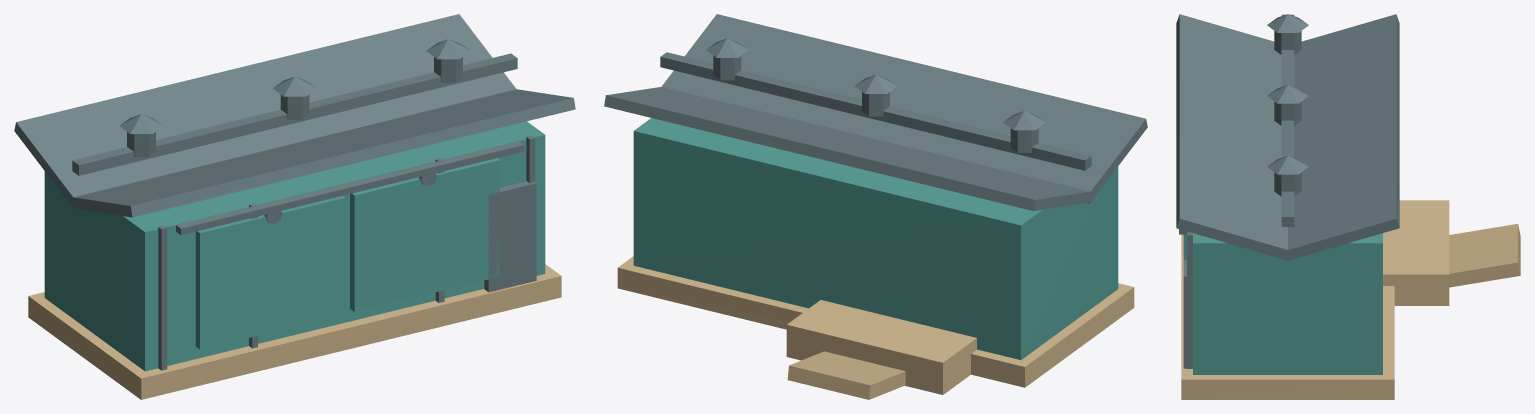
File: Warehouse.glb
The picture shows the model from 3 angles, left to right: view 1: azimuth 30°, elevation 25°; view 2: azimuth 150°, elevation 25°; view 3: azimuth 270°, elevation 25°; orthographic projection. The views are drawn at different scales.
Parts seen in each view (by area): view 1: wind-pump-static-warehouse-timber-panel, wind-pump-static-warehouse-galvanized-roof, wind-pump-static-warehouse-dark-iron, wind-pump-static-warehouse-stone-foundation; view 2: wind-pump-static-warehouse-timber-panel, wind-pump-static-warehouse-galvanized-roof, wind-pump-static-warehouse-stone-foundation, wind-pump-static-warehouse-dark-iron; view 3: wind-pump-static-warehouse-galvanized-roof, wind-pump-static-warehouse-timber-panel, wind-pump-static-warehouse-stone-foundation, wind-pump-static-warehouse-dark-iron.
Part boxes in pixels (left/top/right/bottom): wind-pump-static-warehouse-timber-panel: left=44, top=121, right=545, bottom=371; wind-pump-static-warehouse-galvanized-roof: left=14, top=14, right=575, bottom=217; wind-pump-static-warehouse-dark-iron: left=72, top=53, right=536, bottom=370; wind-pump-static-warehouse-stone-foundation: left=28, top=264, right=561, bottom=399; wind-pump-static-warehouse-timber-panel: left=633, top=118, right=1118, bottom=359; wind-pump-static-warehouse-galvanized-roof: left=604, top=14, right=1147, bottom=210; wind-pump-static-warehouse-stone-foundation: left=617, top=256, right=1134, bottom=399; wind-pump-static-warehouse-dark-iron: left=660, top=52, right=1091, bottom=170; wind-pump-static-warehouse-galvanized-roof: left=1176, top=14, right=1399, bottom=260; wind-pump-static-warehouse-timber-panel: left=1183, top=232, right=1382, bottom=374; wind-pump-static-warehouse-stone-foundation: left=1181, top=200, right=1520, bottom=399; wind-pump-static-warehouse-dark-iron: left=1179, top=14, right=1301, bottom=368.
Size of the model in its own units: 3.9 by 1.94 by 2.78.
